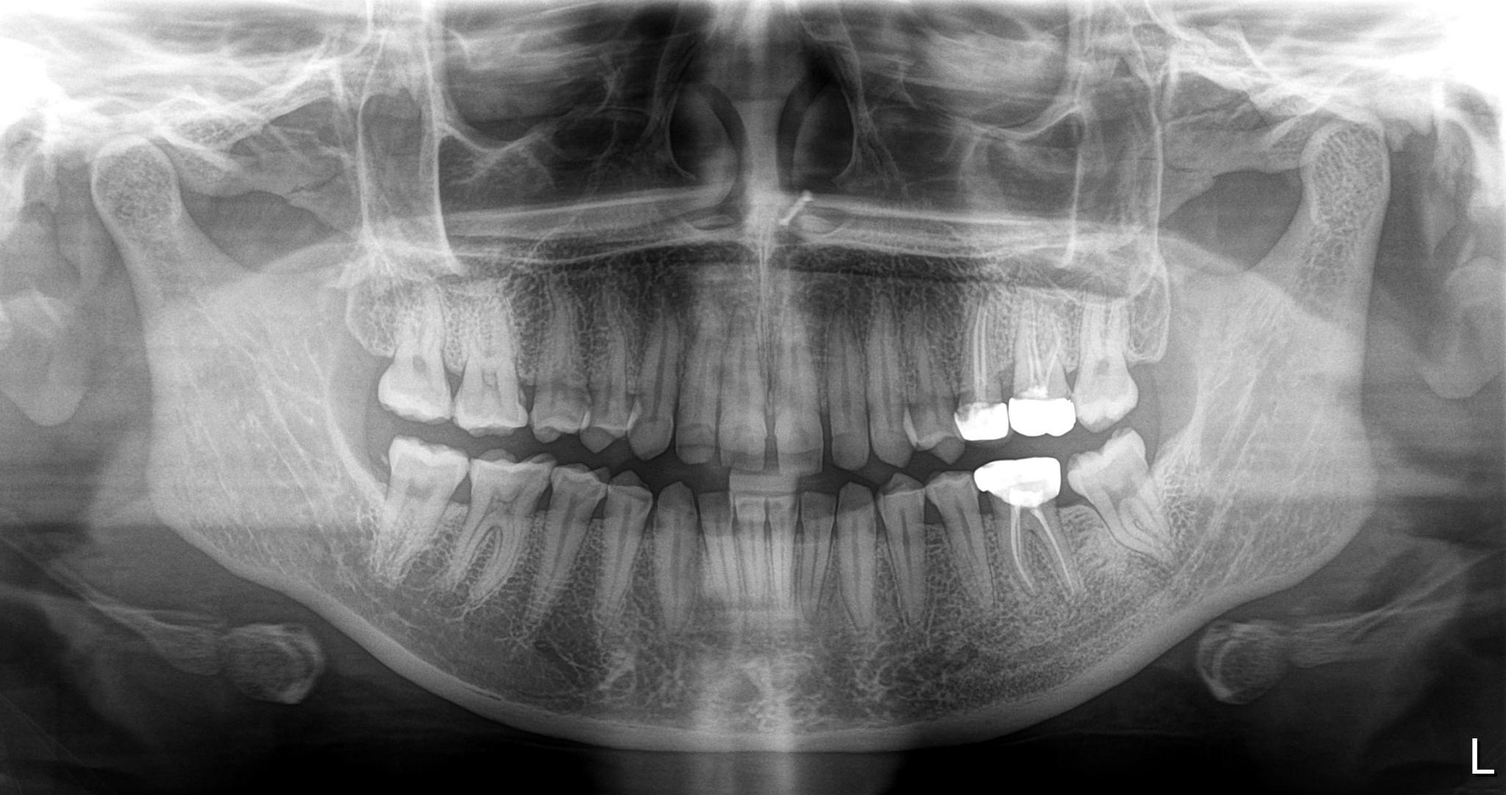Endodontically Treated Tooth: (985, 463, 1068, 625), (1011, 302, 1074, 443), (961, 302, 1002, 438)
Missing Tooth: (1134, 302, 1199, 438), (342, 272, 393, 434), (1143, 443, 1211, 548), (336, 449, 395, 538)
